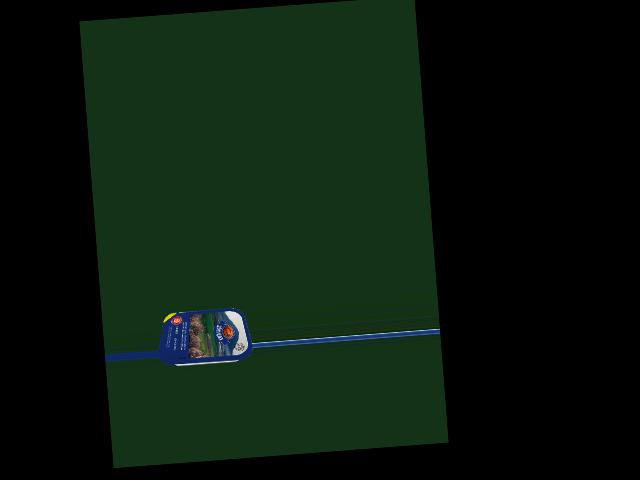cheese: (165, 304, 247, 373)
